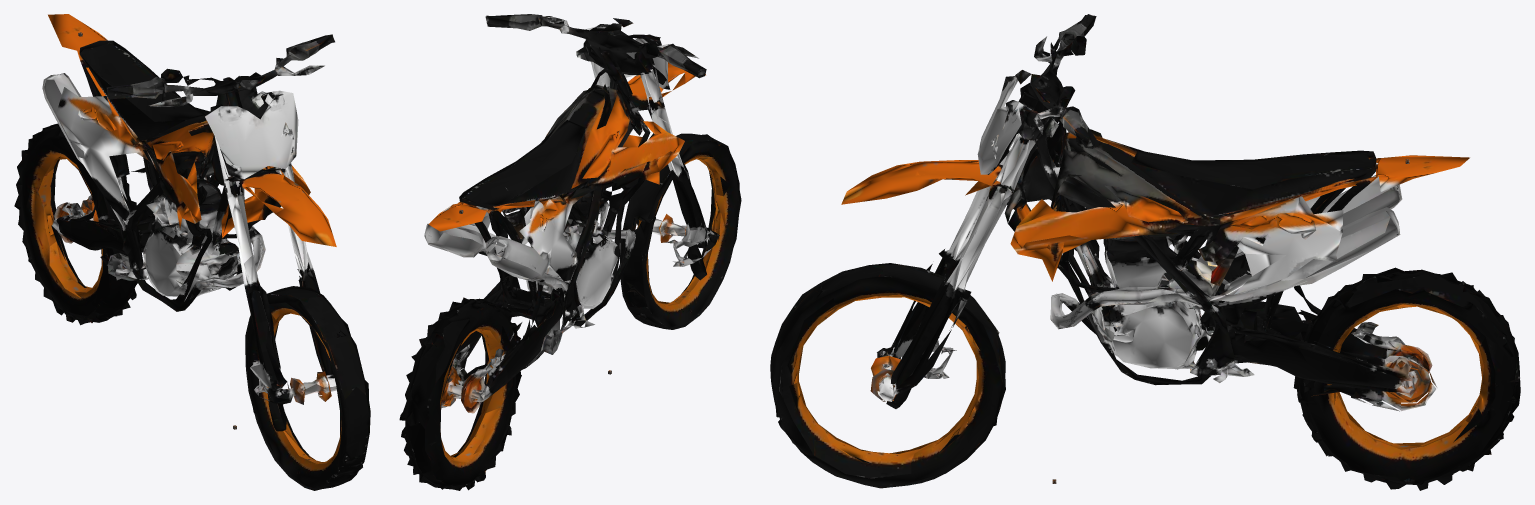
File: bike_450_parts.glb
3 renders of one model, left to right at view 1: azimuth 30°, elevation 25°; view 2: azimuth 150°, elevation 25°; view 3: azimuth 270°, elevation 25°, orthographic. The views are drawn at different scales.
Parts seen in each view (by area): view 1: Frame, Steer, FrontWheel, RearWheel, ForkLower, Swingarm; view 2: Frame, RearWheel, FrontWheel, Steer, Swingarm, ForkLower; view 3: Frame, RearWheel, FrontWheel, Steer, Swingarm, ForkLower.
Part boxes in pixels (box(x1,y1,x2,y2)): Frame: box(42, 14, 310, 431); Steer: box(106, 34, 336, 282); FrontWheel: box(245, 276, 370, 490); RearWheel: box(14, 123, 137, 325); ForkLower: box(237, 237, 336, 430); Swingarm: box(52, 195, 187, 279); Frame: box(424, 52, 706, 350); RearWheel: box(399, 297, 537, 490); FrontWheel: box(620, 133, 741, 329); Steer: box(485, 14, 706, 169); Swingarm: box(441, 277, 584, 407); ForkLower: box(629, 153, 716, 275); Frame: box(886, 99, 1469, 408); RearWheel: box(1293, 267, 1520, 490); FrontWheel: box(770, 263, 1005, 488); Steer: box(841, 14, 1096, 290); Swingarm: box(1211, 301, 1437, 411); ForkLower: box(877, 220, 980, 406).
Bounding box in the file's own units: 0.8514 × 1.31 × 2.12.
Materials: 1 (1 with a texture image).
